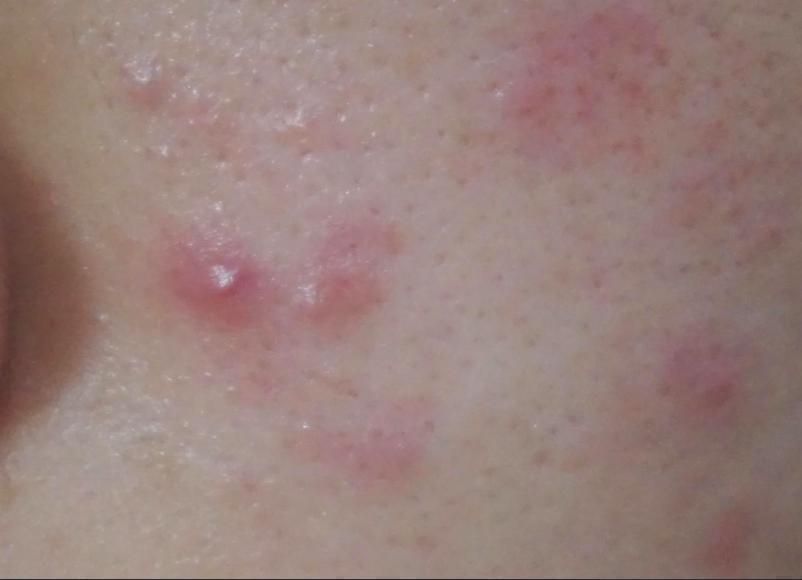papular: (174, 226, 268, 346), (298, 259, 388, 326), (121, 53, 182, 143)
